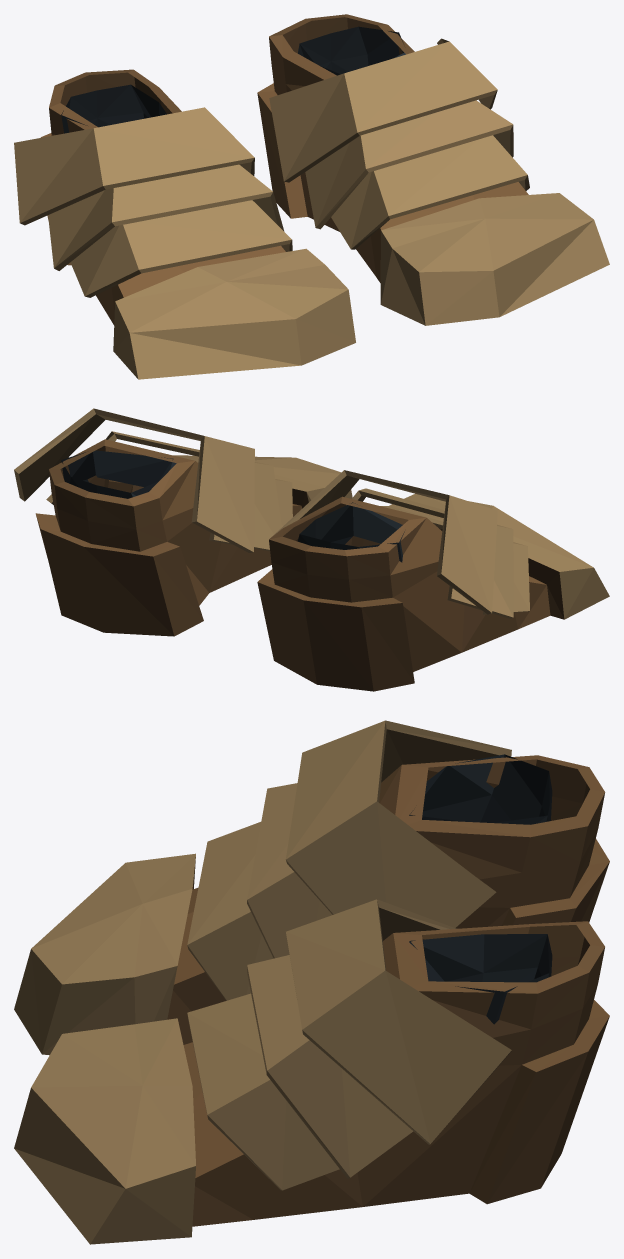
File: bronze_feet.glb
The picture shows the model from 3 angles, top to bottom: view 1: azimuth 30°, elevation 25°; view 2: azimuth 150°, elevation 25°; view 3: azimuth 270°, elevation 25°; orthographic projection. The views are drawn at different scales.
Parts seen in each view (by area): view 1: bronze_feet; view 2: bronze_feet; view 3: bronze_feet.
Boxes of the visible parts, x1,y1,x2,y2 form: bronze_feet: (14,14,609,379); bronze_feet: (14,408,609,691); bronze_feet: (14,720,609,1244).
Size of the model in its own units: 1 by 0.3281 by 0.7591.
